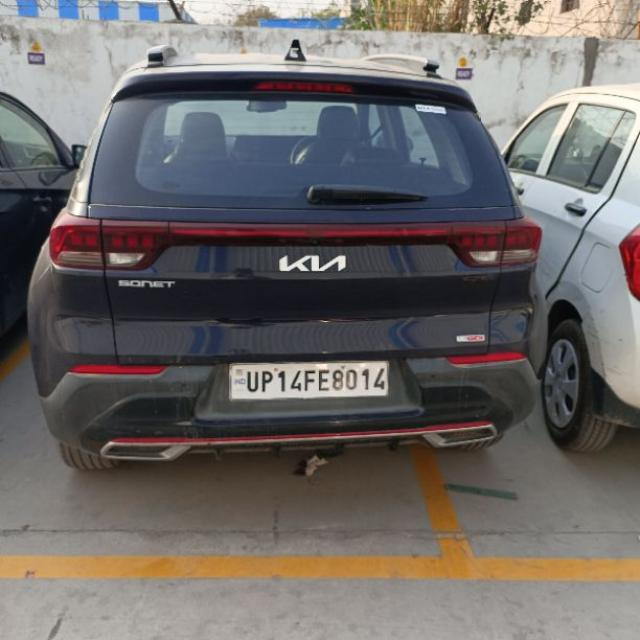license_plate: (226, 358, 390, 401)
